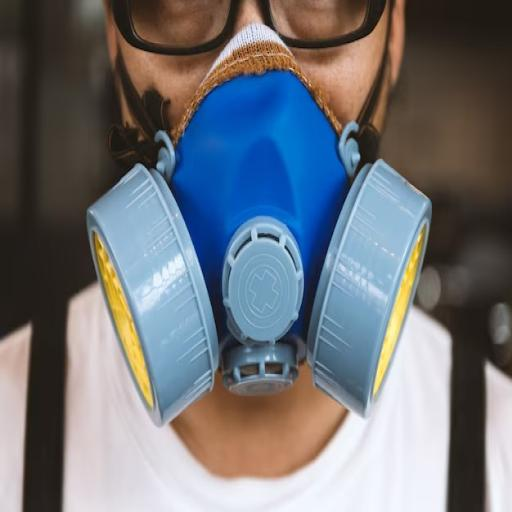mask: (88, 48, 439, 428)
